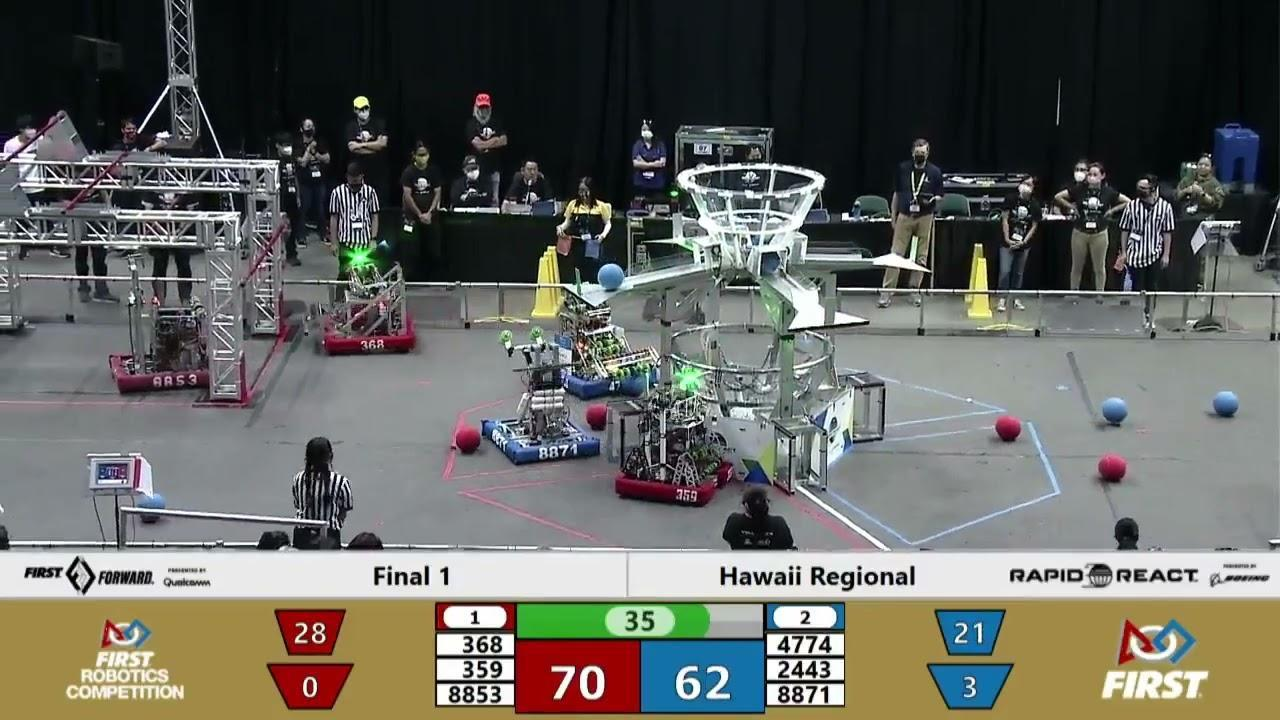robot: (611, 364, 736, 510), (478, 329, 604, 467), (107, 252, 212, 398), (551, 281, 663, 398), (318, 243, 418, 361)
